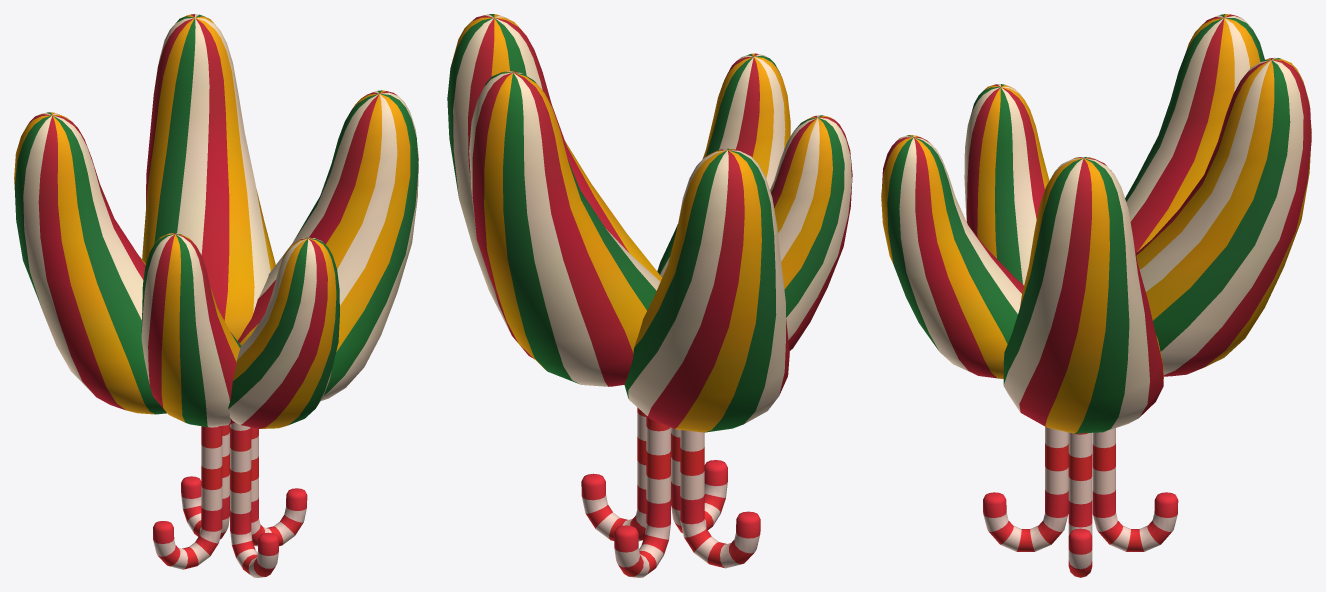
File: cw_PlantsFlowers_18.fbx
The picture shows the model from 3 angles, left to right: view 1: azimuth 30°, elevation 25°; view 2: azimuth 150°, elevation 25°; view 3: azimuth 270°, elevation 25°; orthographic projection. The views are drawn at different scales.
Visible parts, largest first — view 1: cw_pf_18; view 2: cw_pf_18; view 3: cw_pf_18.
Boxes of the visible parts, x1,y1,x2,y2 form: cw_pf_18: (14, 14, 418, 577); cw_pf_18: (447, 14, 852, 577); cw_pf_18: (881, 14, 1311, 577).
Size of the model in its own units: 135 by 180 by 136.
